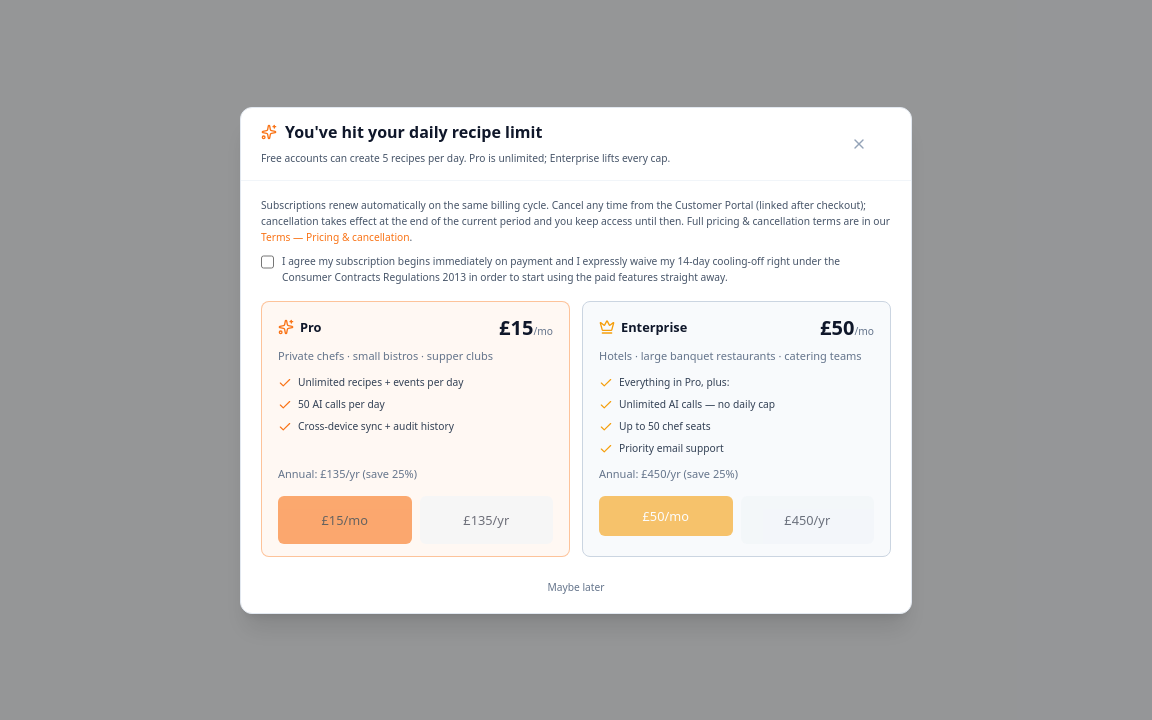
Test: UpgradeSheet › enables CTAs after the cooling-off waiver checkbox is ticked
The width and height of the screenshot is (1152, 720).
Step 1. Click the checkbox with test id "upgrade-cooling-off-waiver" → click(268, 262), box [261,254,274,268]
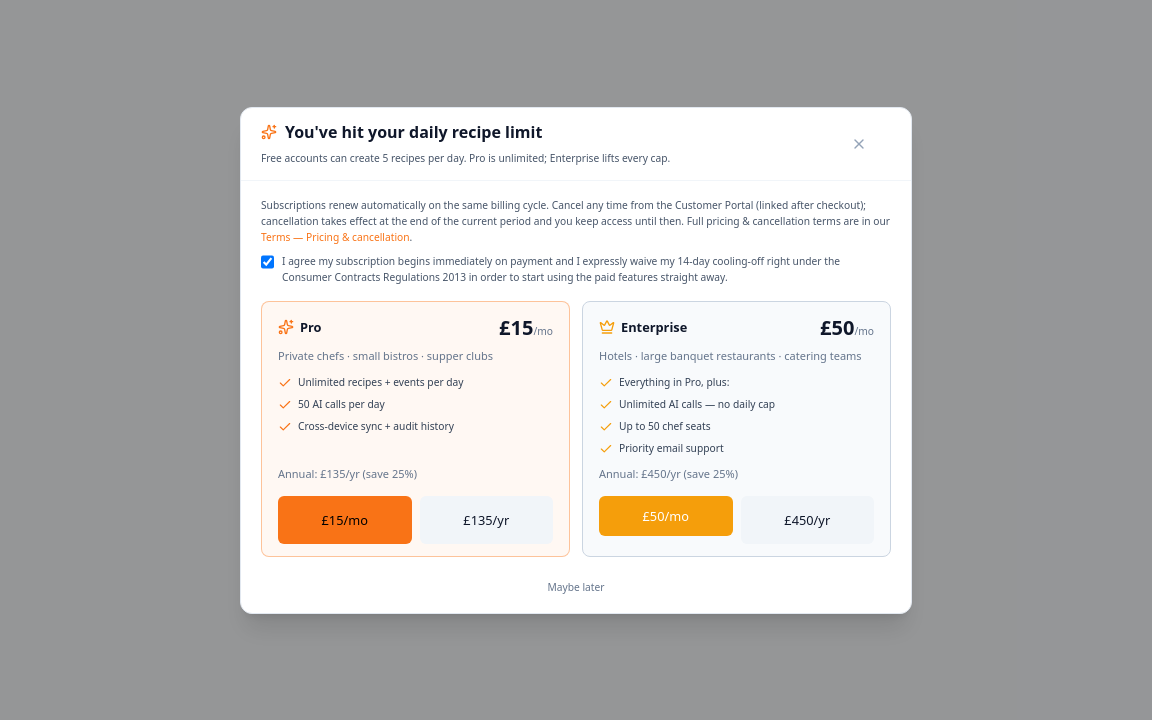
Now the button with test id "upgrade-sheet-cta-pro-monthly" is enabled, box [278,496,412,544]
Now the button with test id "upgrade-sheet-cta-pro-annual" is enabled, box [420,496,553,544]
Now the button with test id "upgrade-sheet-cta-enterprise-monthly" is enabled, box [599,496,732,536]
